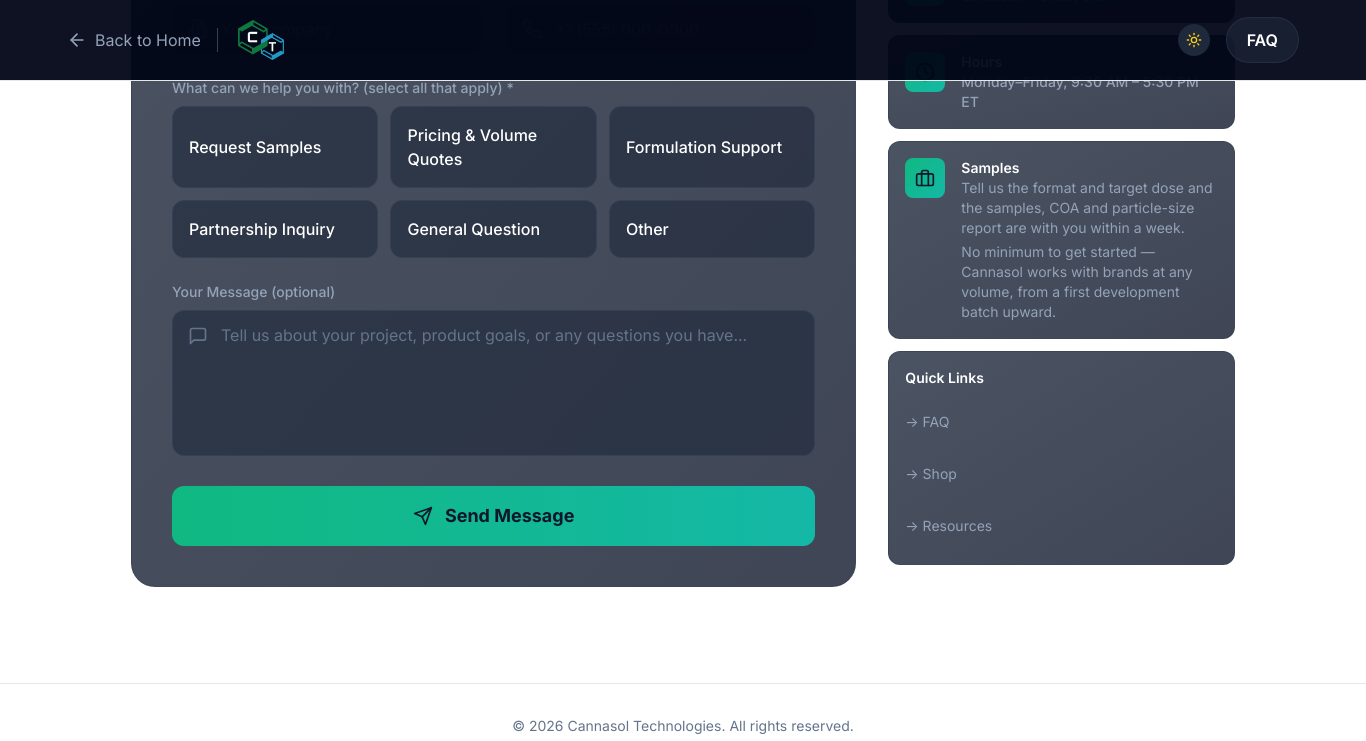
Scenario: ContactForm › Form Validation › clears error when user starts typing in field
The image size is (1366, 741).
(page scrolled)
Click the button "Send Message".
click(494, 516)  # box x1=172 y1=486 x2=815 y2=546
(page scrolled)
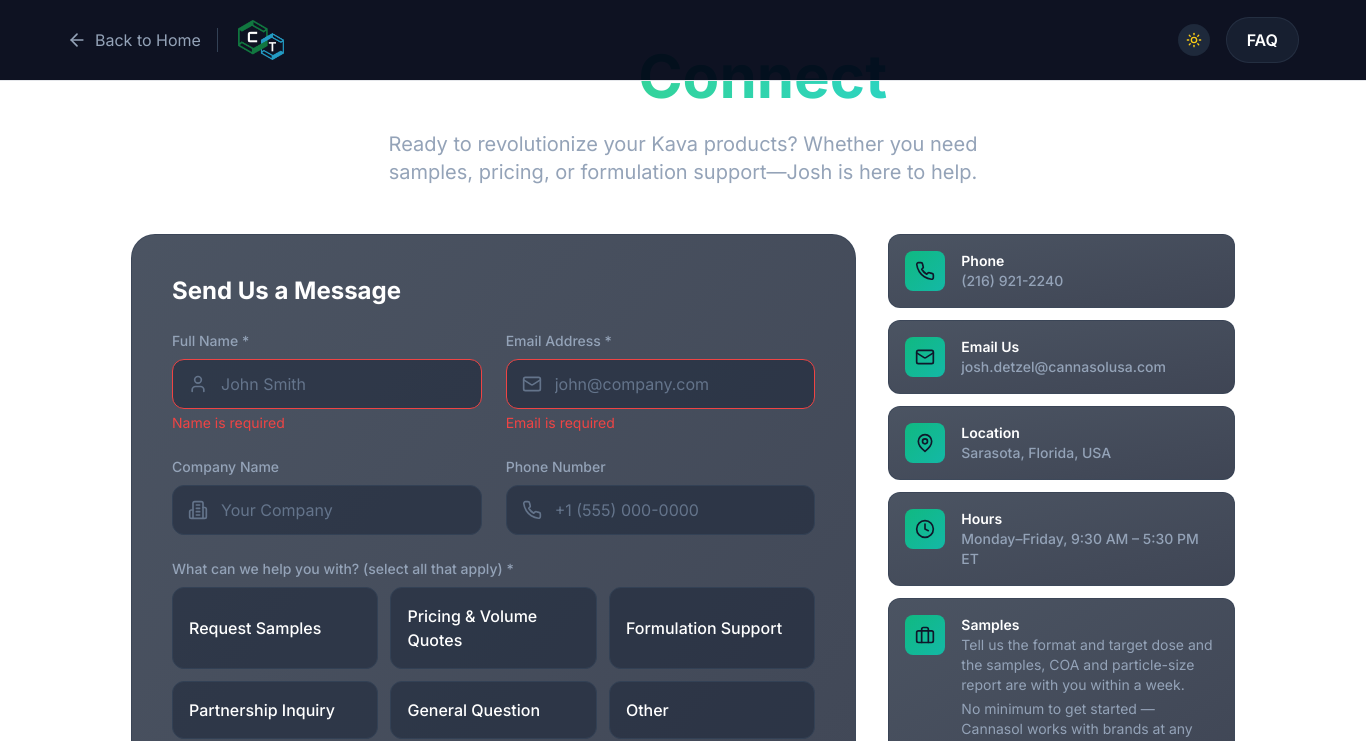
Expected: the text "Name is required" is shown, x1=172 y1=414 x2=285 y2=431
Type "J" into the field with placeholder "John Smith".
click(327, 384); type("J")  # box x1=172 y1=359 x2=482 y2=409
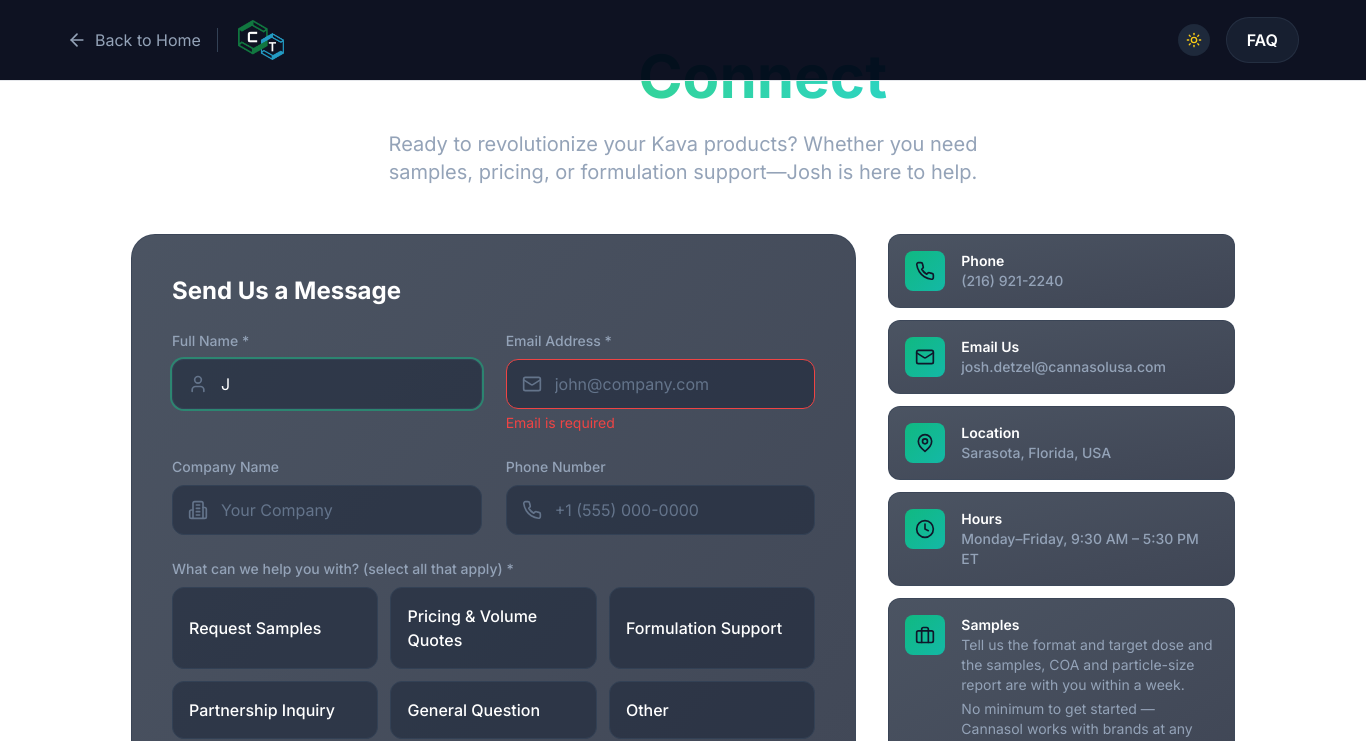
Expected: the text "Name is required" is gone
